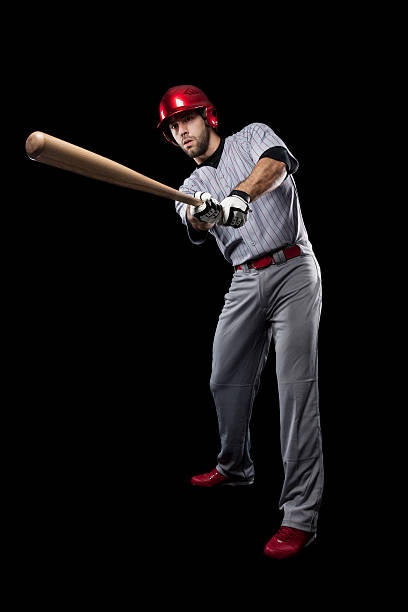bita: (23, 131, 231, 222)
